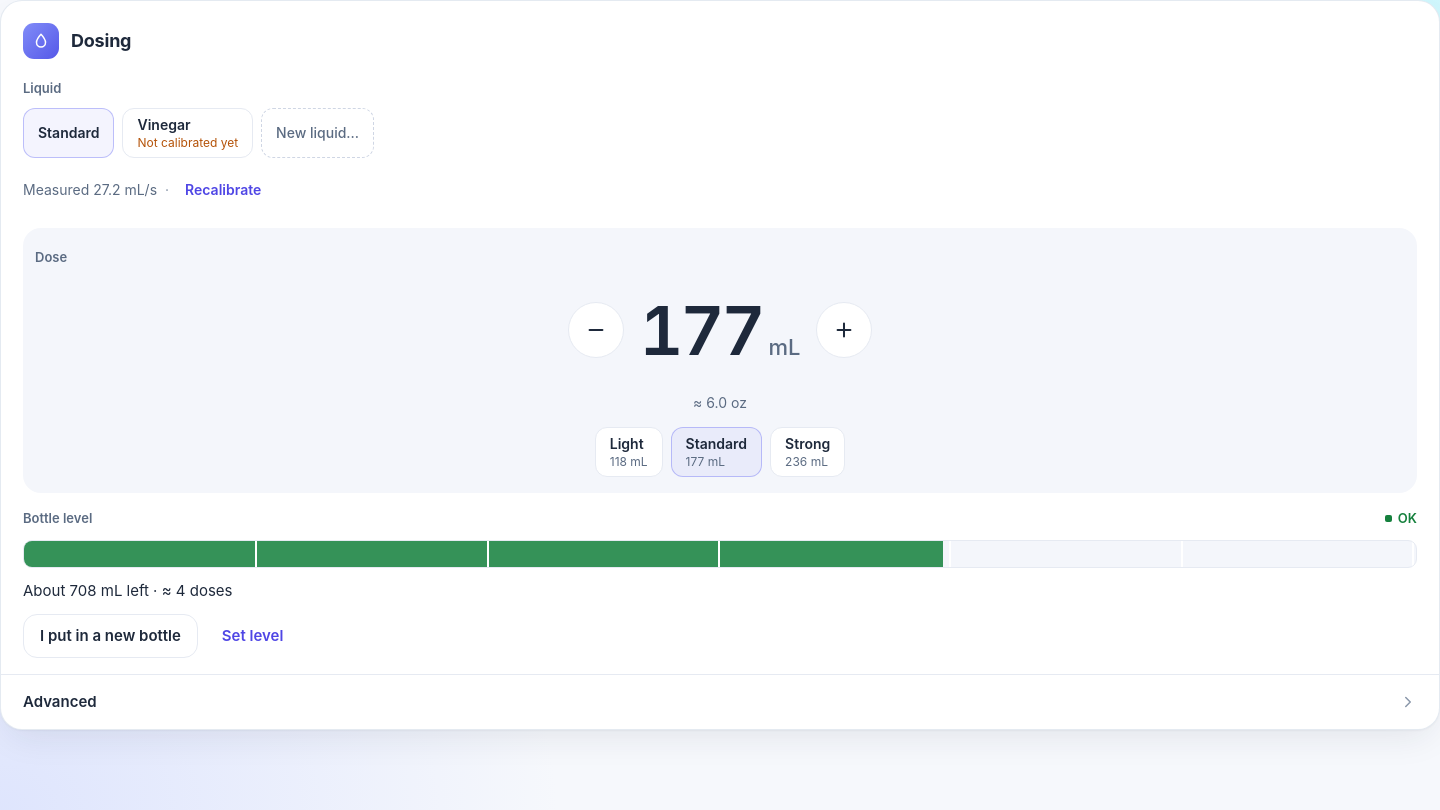
Test: DosingCard › shows the API’s computed valve time in Advanced
Click the button "Advanced": point(60, 701) [1,675,1439,729]
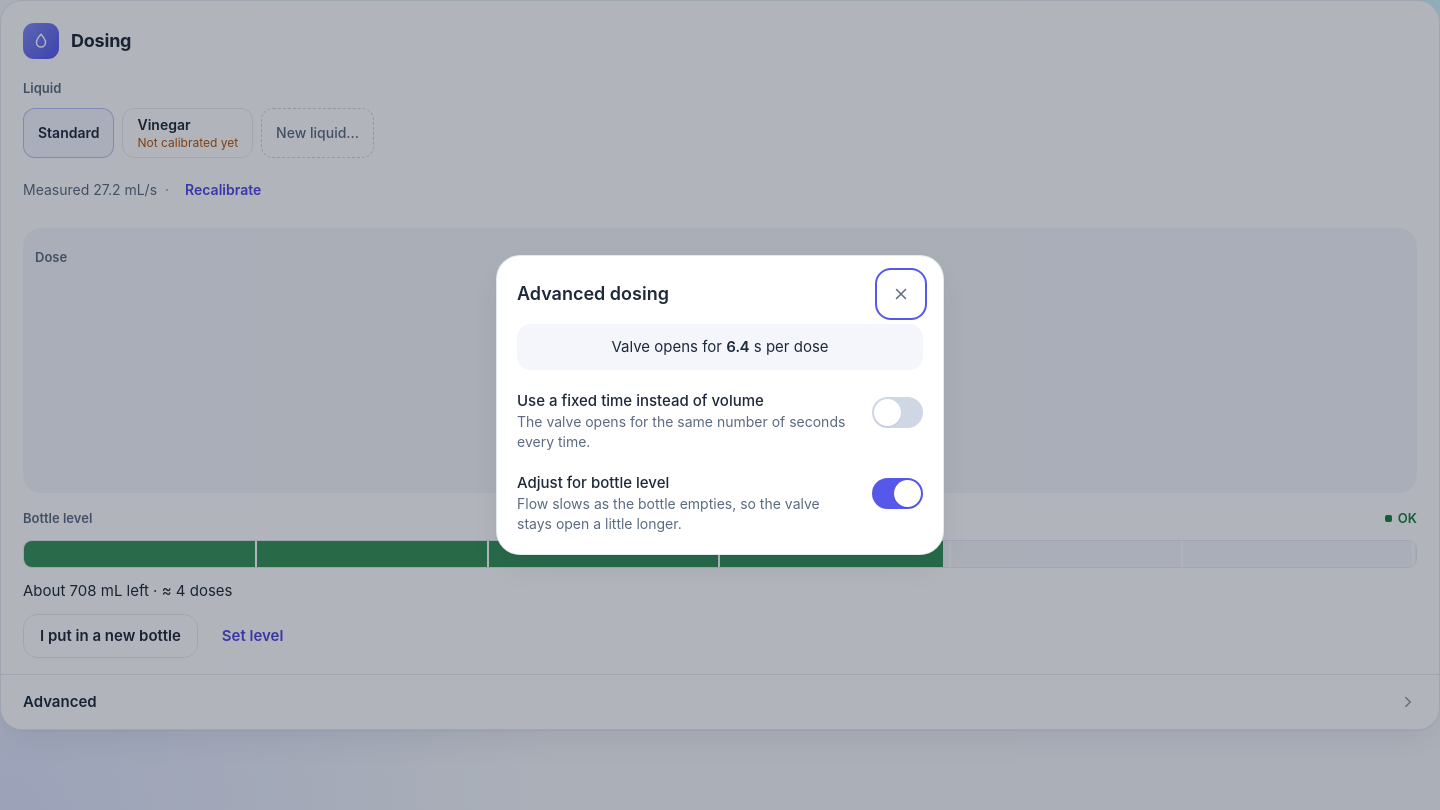
Expected: the text with test id "computed-seconds" reads "6.4", [726,337,750,356]
